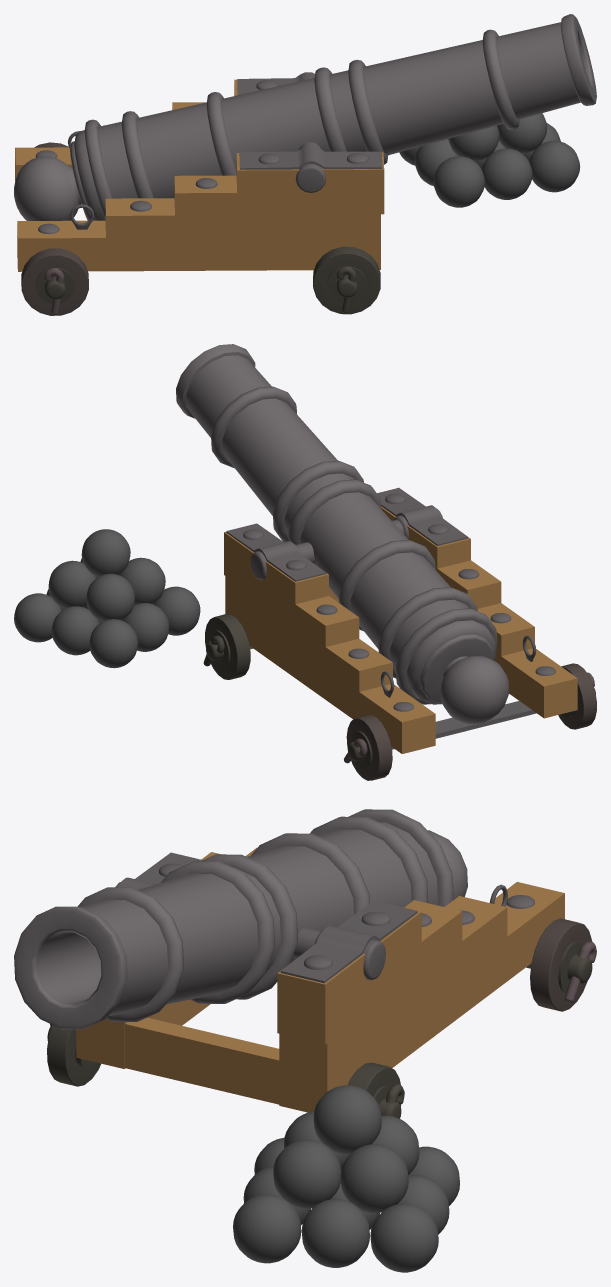
File: Cannon.fbx
3 renders of one model, top to bottom at view 1: azimuth 30°, elevation 25°; view 2: azimuth 150°, elevation 25°; view 3: azimuth 270°, elevation 25°, orthographic. The views are drawn at different scales.
Parts seen in each view (by area): view 1: pCylinder8, pSphere53; view 2: pCylinder8, pSphere53; view 3: pCylinder8, pSphere53.
Part boxes in pixels (<box>): pCylinder8: <box>14,14,596,315</box>; pSphere53: <box>399,113,580,207</box>; pCylinder8: <box>176,344,596,780</box>; pSphere53: <box>14,529,200,668</box>; pCylinder8: <box>14,809,596,1118</box>; pSphere53: <box>233,1085,459,1272</box>.
Bounding box in the file's own units: 15.81 × 6.4 × 10.58.
